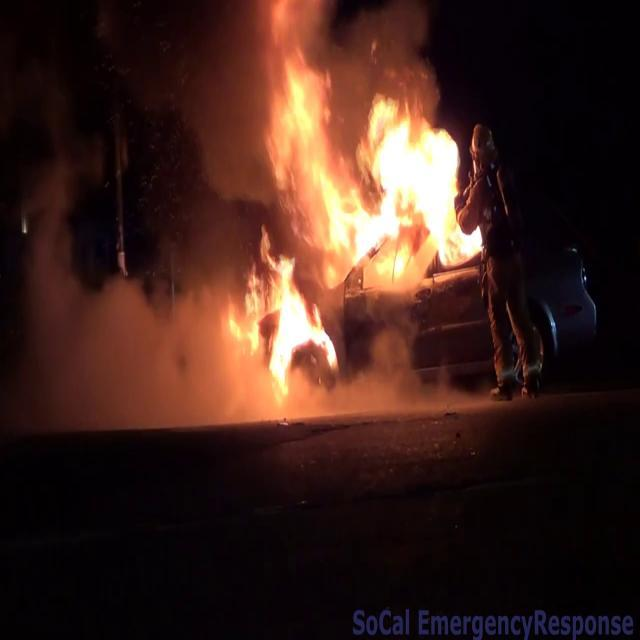Fire: (216, 25, 488, 401)
Smoke: (0, 231, 264, 421)
